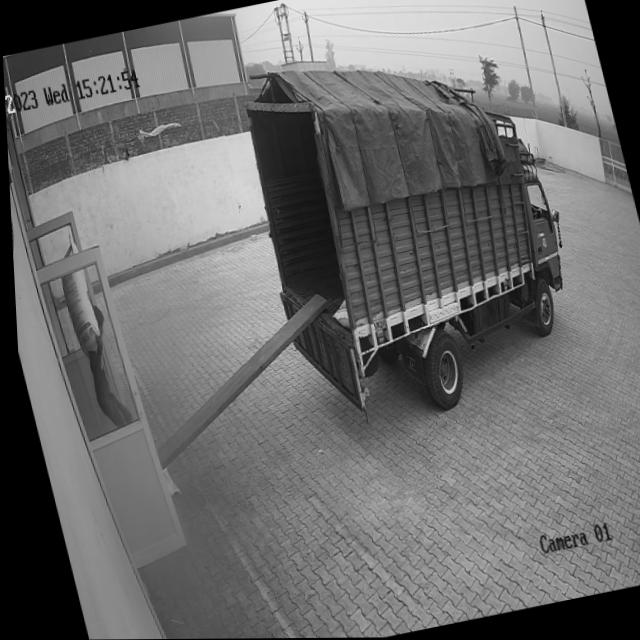sack: (47, 234, 103, 356)
